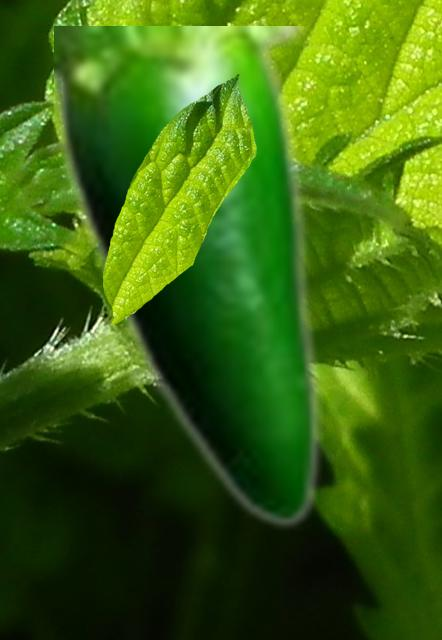green_chili: (54, 26, 322, 529)
